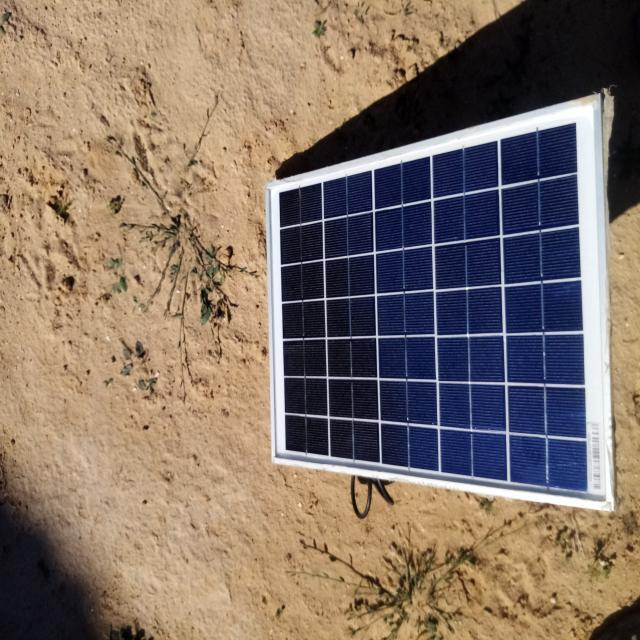no faulty: (265, 101, 617, 509)
